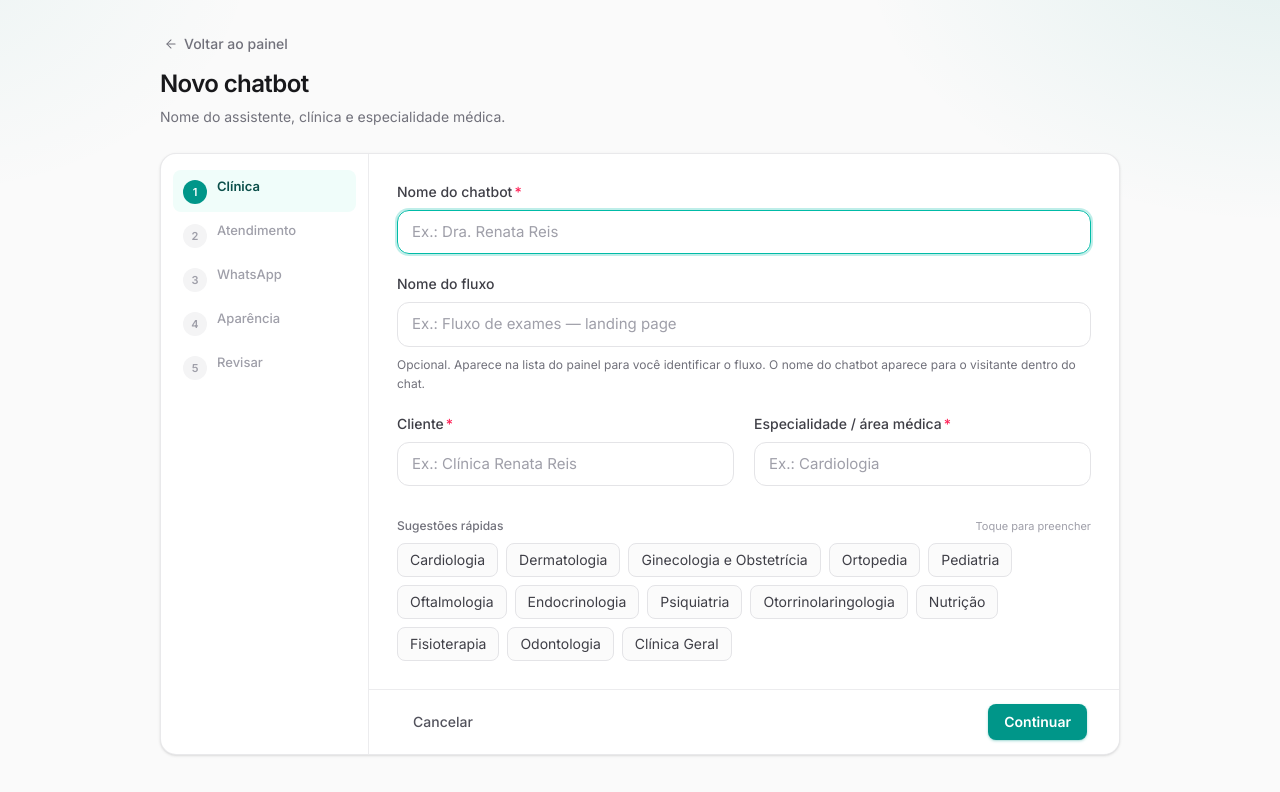
ChatbotForm (wizard) › syncs flow template when a specialty chip is selected
Click the button "Cardiologia" at (448, 560), box [397,543,498,577]
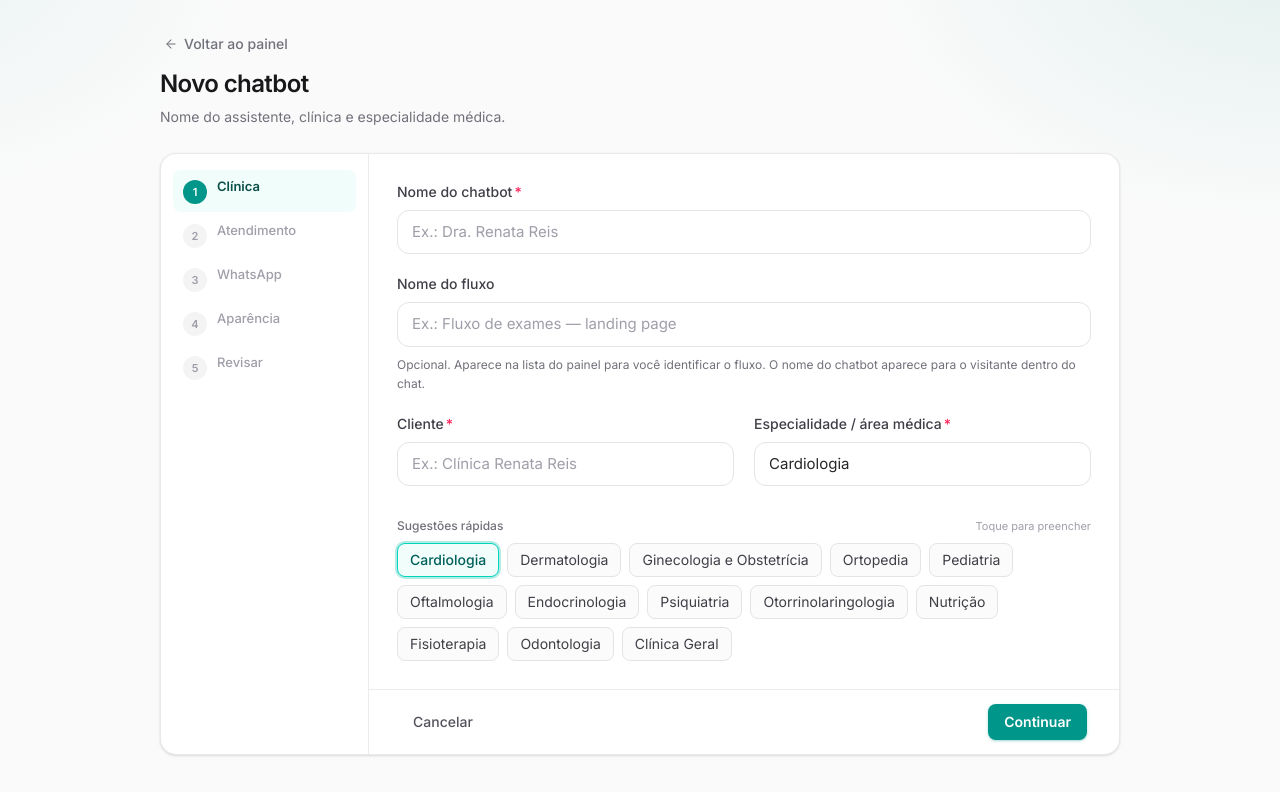
Type "Dra. Ana" into the field labelled "Nome do chatbot*" at (744, 232), box [397,210,1091,254]
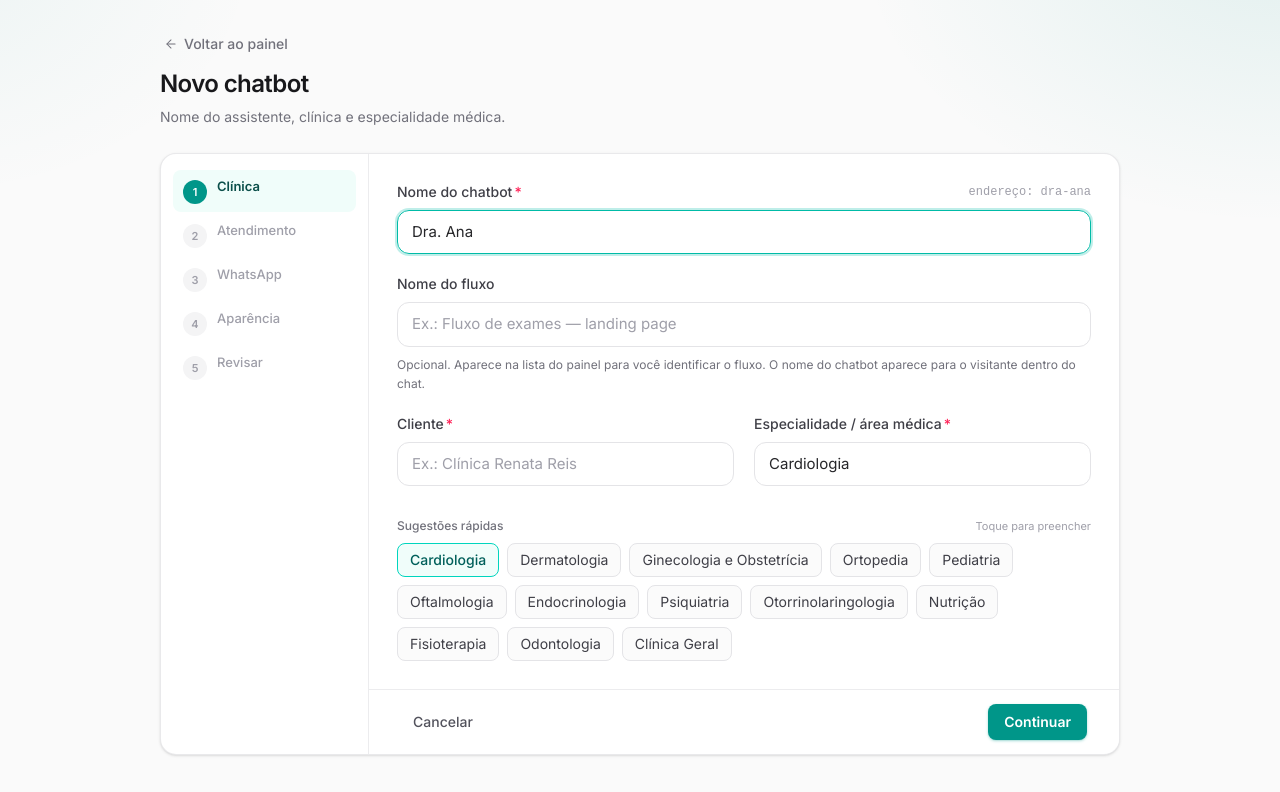
Type "Clínica Ana" into the field labelled "Cliente*" at (566, 464), box [397,442,734,486]
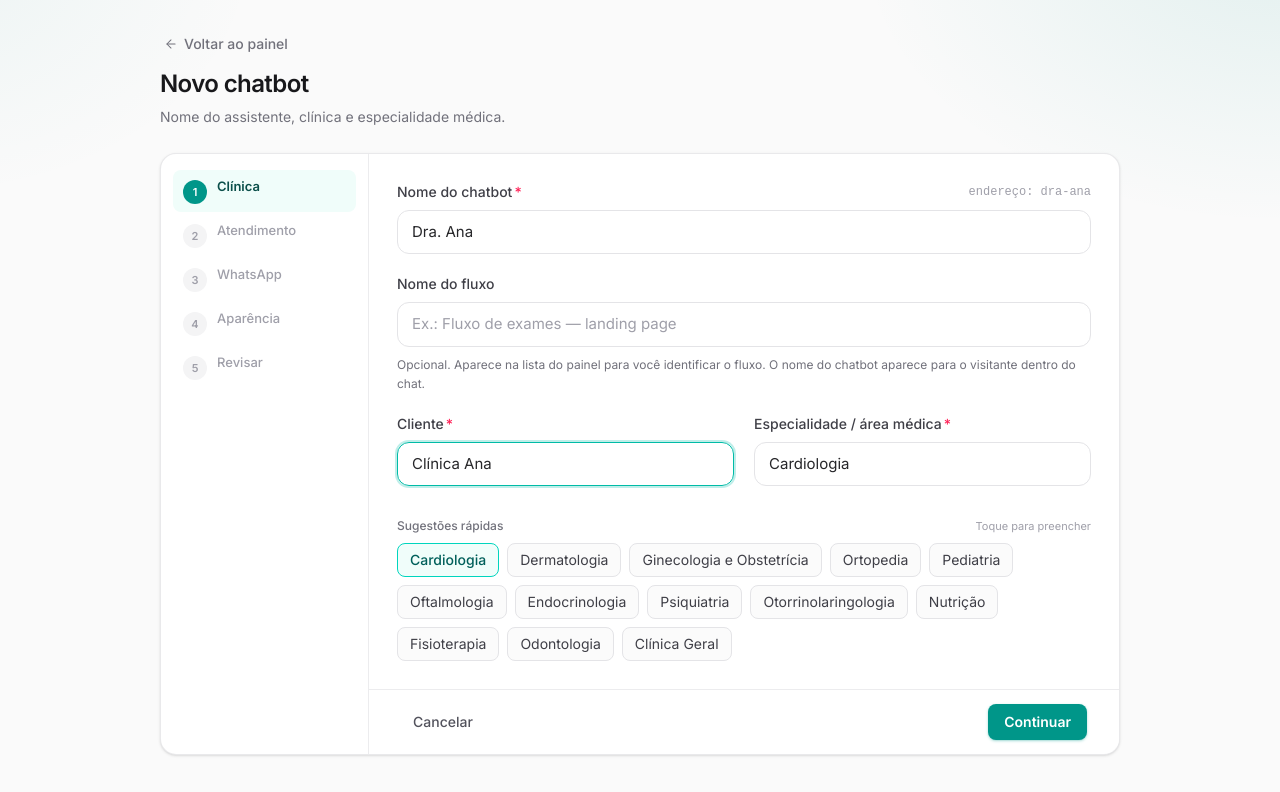
Click the button "Continuar" at (1038, 722), box [988,704,1087,740]
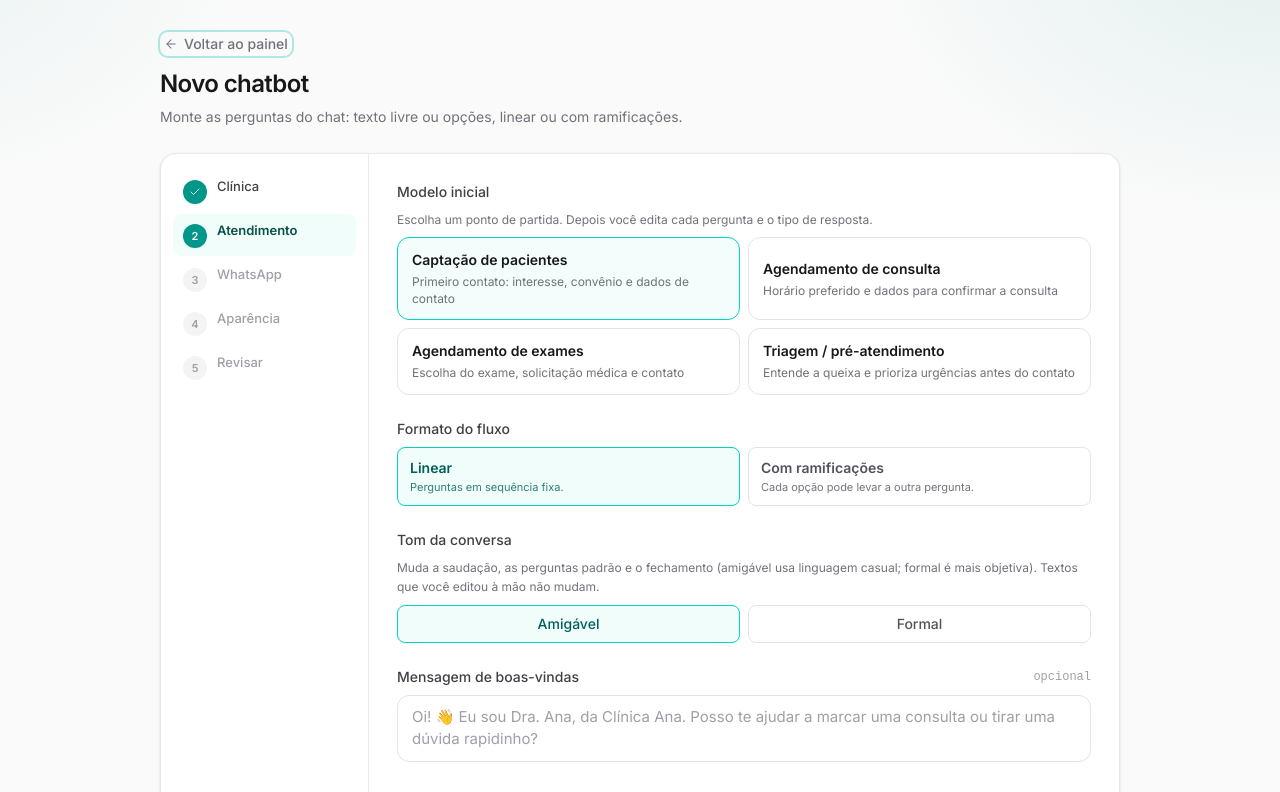
Check: the button "Captação de pacientes" is shown, box [397,237,740,320]
